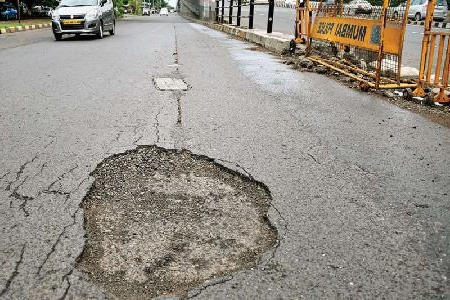pothole: (73, 138, 282, 299)
